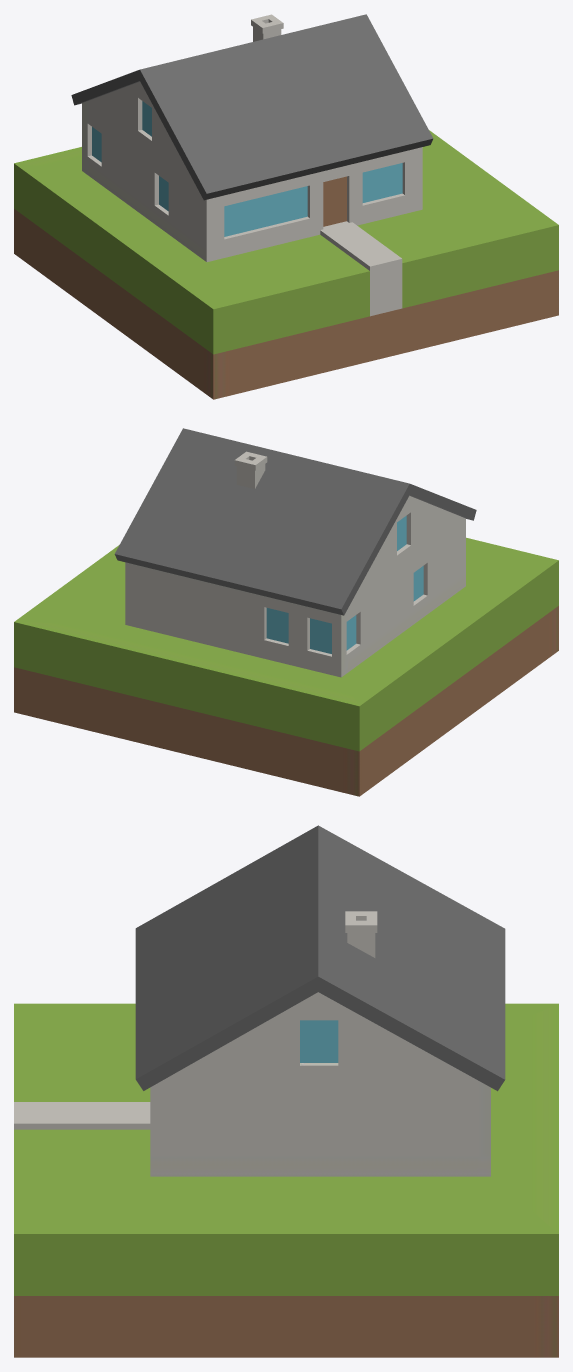
Rendered from building-house1.obj.
3 views of the same model, one above another, from view 1: azimuth 30°, elevation 25°; view 2: azimuth 150°, elevation 25°; view 3: azimuth 270°, elevation 25° (orthographic). The views are drawn at different scales.
Parts seen in each view (by area): view 1: house-small; view 2: house-small; view 3: house-small.
Part boxes in pixels (left/top/right/bottom): house-small: left=14, top=14, right=558, bottom=399; house-small: left=14, top=428, right=558, bottom=796; house-small: left=14, top=825, right=558, bottom=1357.
Size of the model in its own units: 8 by 5.34 by 8.
